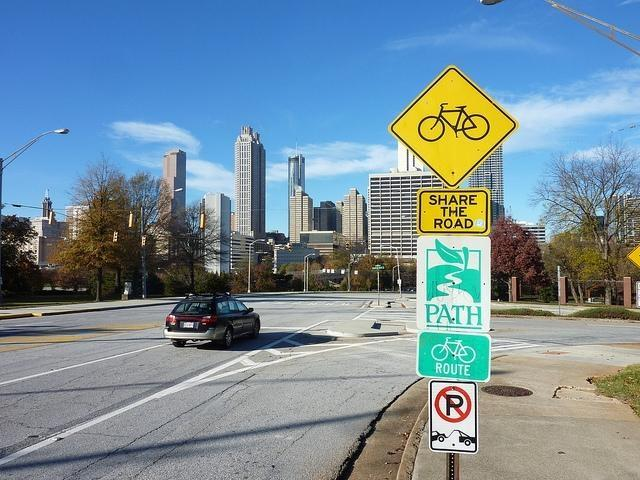bicycle: (418, 103, 490, 142)
car: (162, 292, 260, 350)
